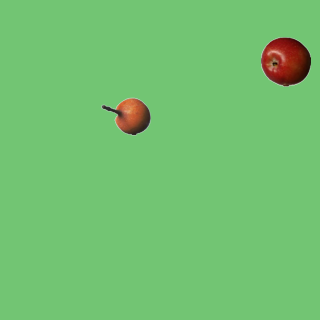Apple Braeburn: (260, 36, 310, 86)
Granadilla: (100, 91, 150, 141)
